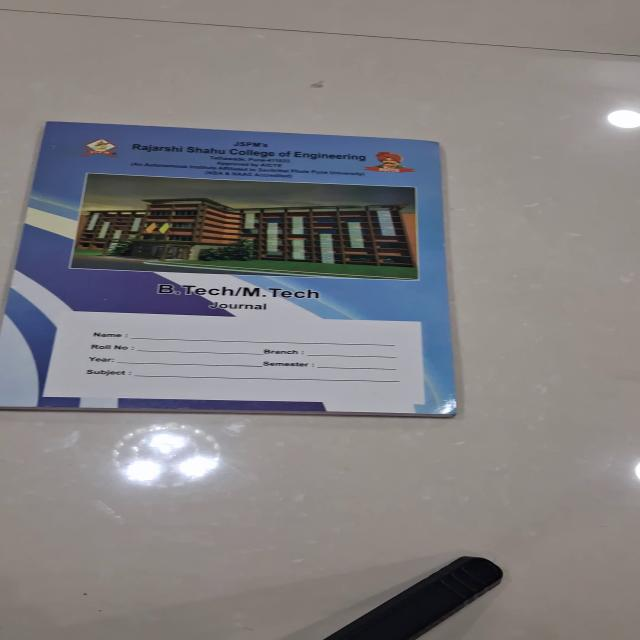paper: (1, 120, 458, 417)
